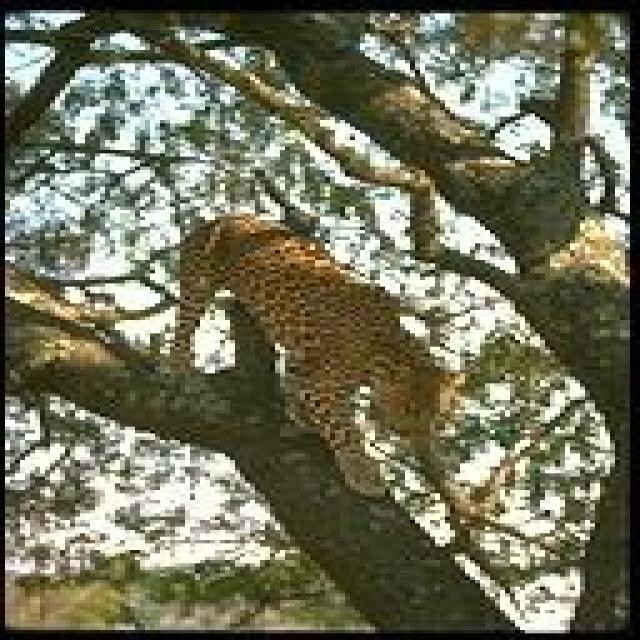Leopard: (168, 212, 466, 514)
